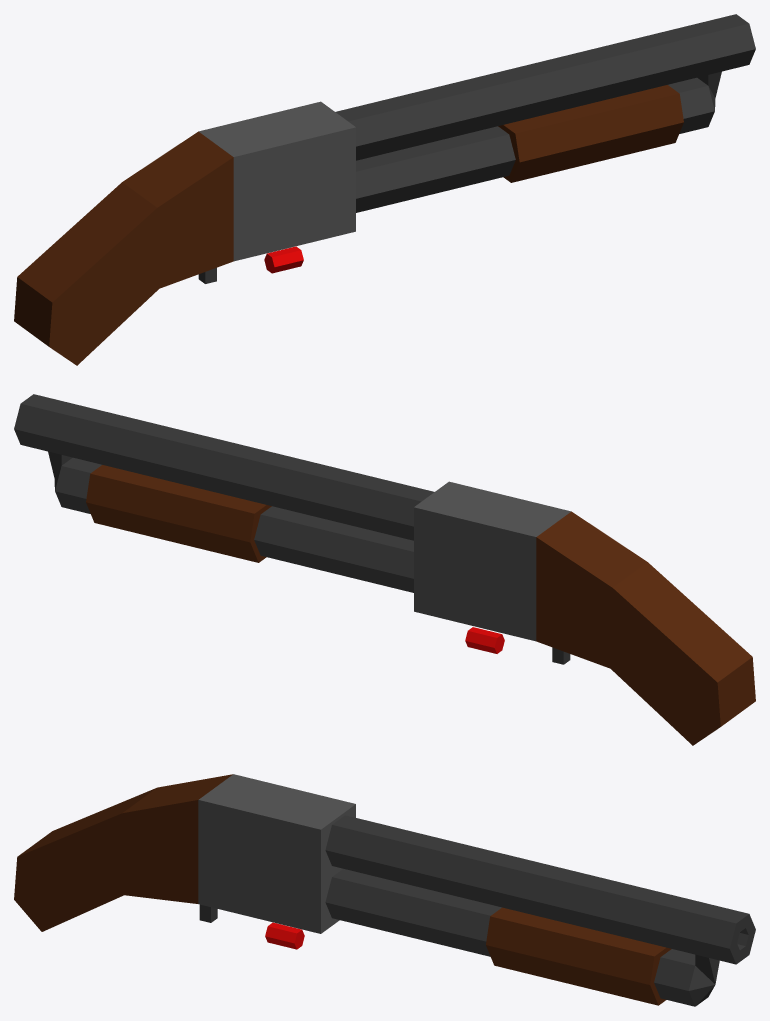
File: Shotgun.fbx
3 views of the same model, one above another, from view 1: azimuth 30°, elevation 25°; view 2: azimuth 150°, elevation 25°; view 3: azimuth 330°, elevation 25° (orthographic).
Visible parts, largest first — view 1: Shotgun, Shotgun.001, Shotgun.002; view 2: Shotgun, Shotgun.001, Shotgun.002; view 3: Shotgun, Shotgun.001, Shotgun.002.
Boxes of the visible parts, x1,y1,x2,y2 form: Shotgun: (14, 14, 755, 365); Shotgun.001: (498, 85, 683, 182); Shotgun.002: (264, 246, 303, 273); Shotgun: (14, 394, 755, 745); Shotgun.001: (86, 465, 271, 562); Shotgun.002: (465, 627, 504, 653); Shotgun: (14, 774, 755, 1006); Shotgun.001: (486, 907, 671, 1005); Shotgun.002: (265, 922, 304, 949).
Bounding box in the file's own units: 1146 × 263 × 98.1.
